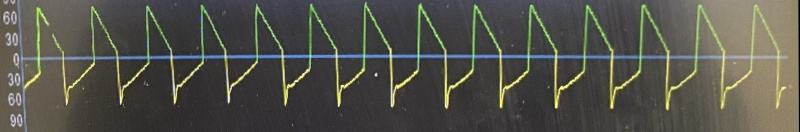peepi: (19, 0, 796, 114)
